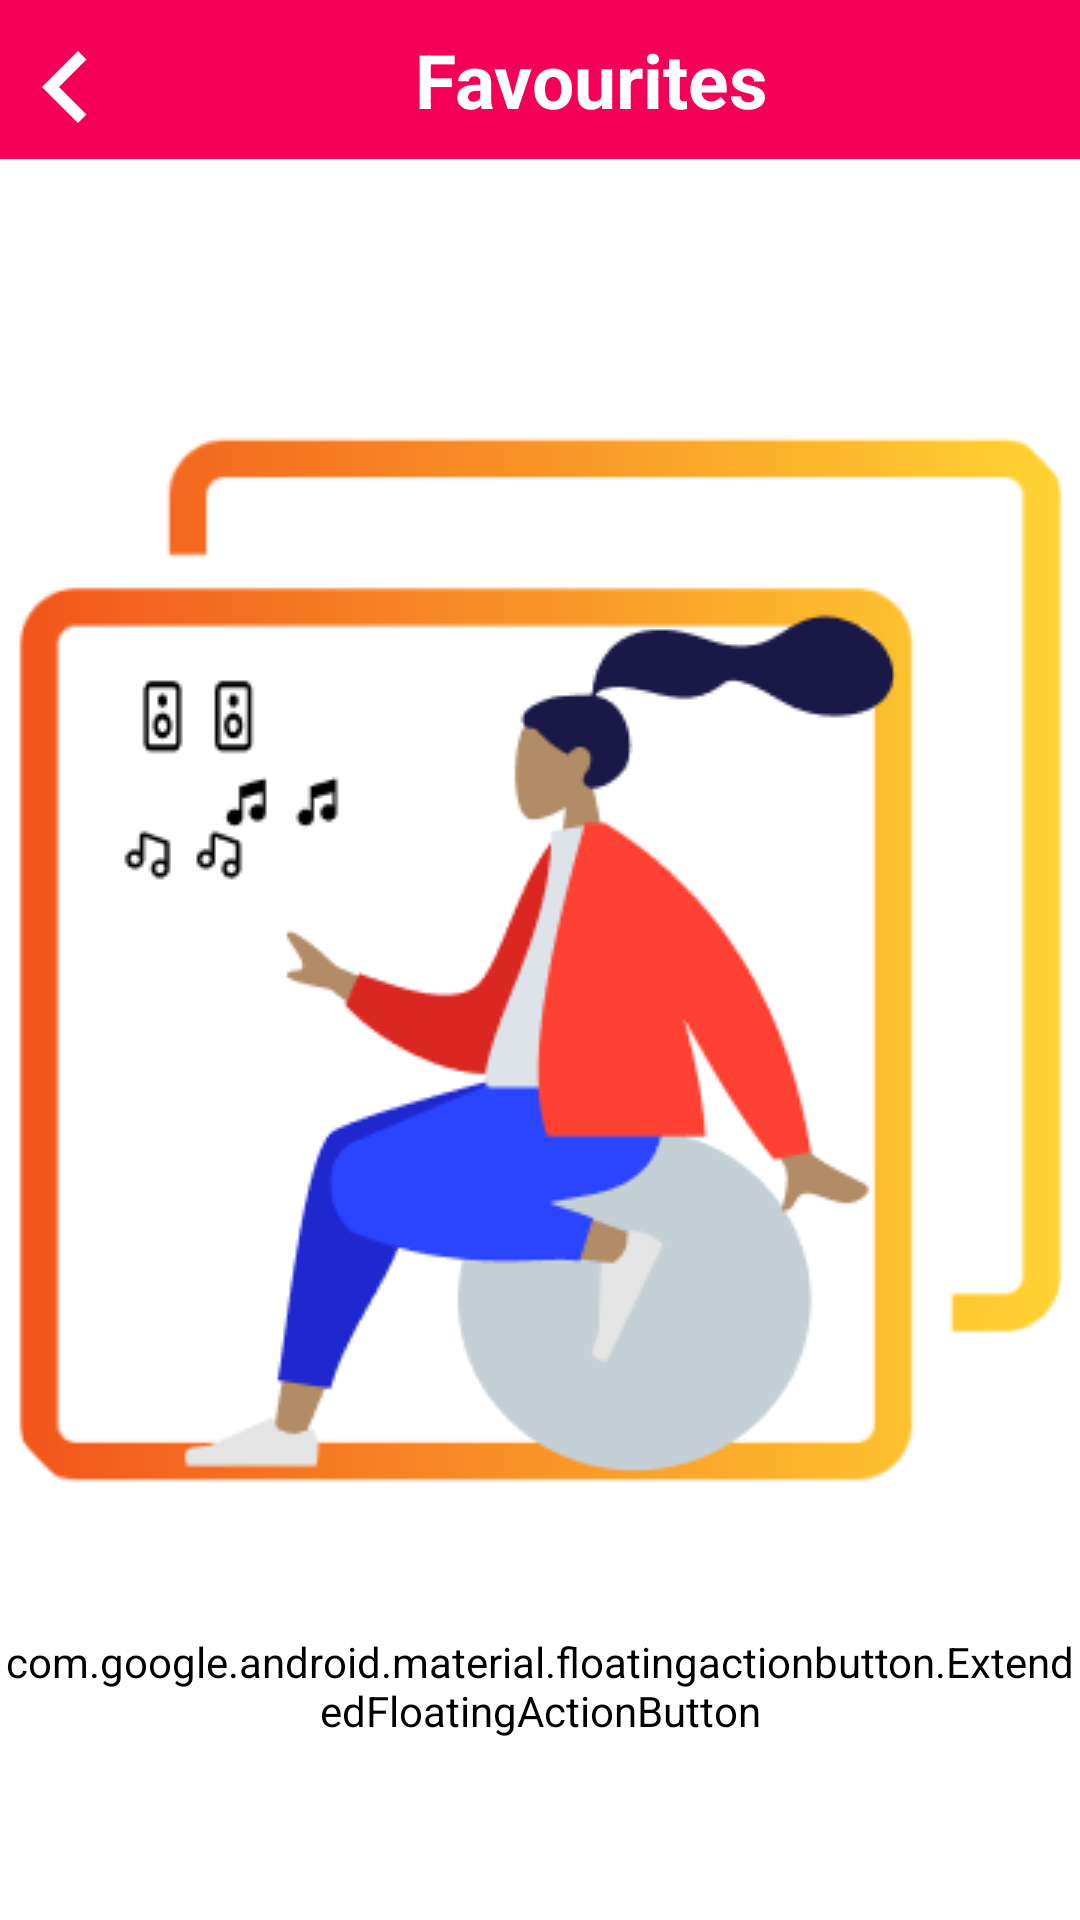

Locate icon controls on the screen. Image size 1080px×1920px, boxes as (x1, y1, x2, y2).
Back: (42, 51, 87, 123)
